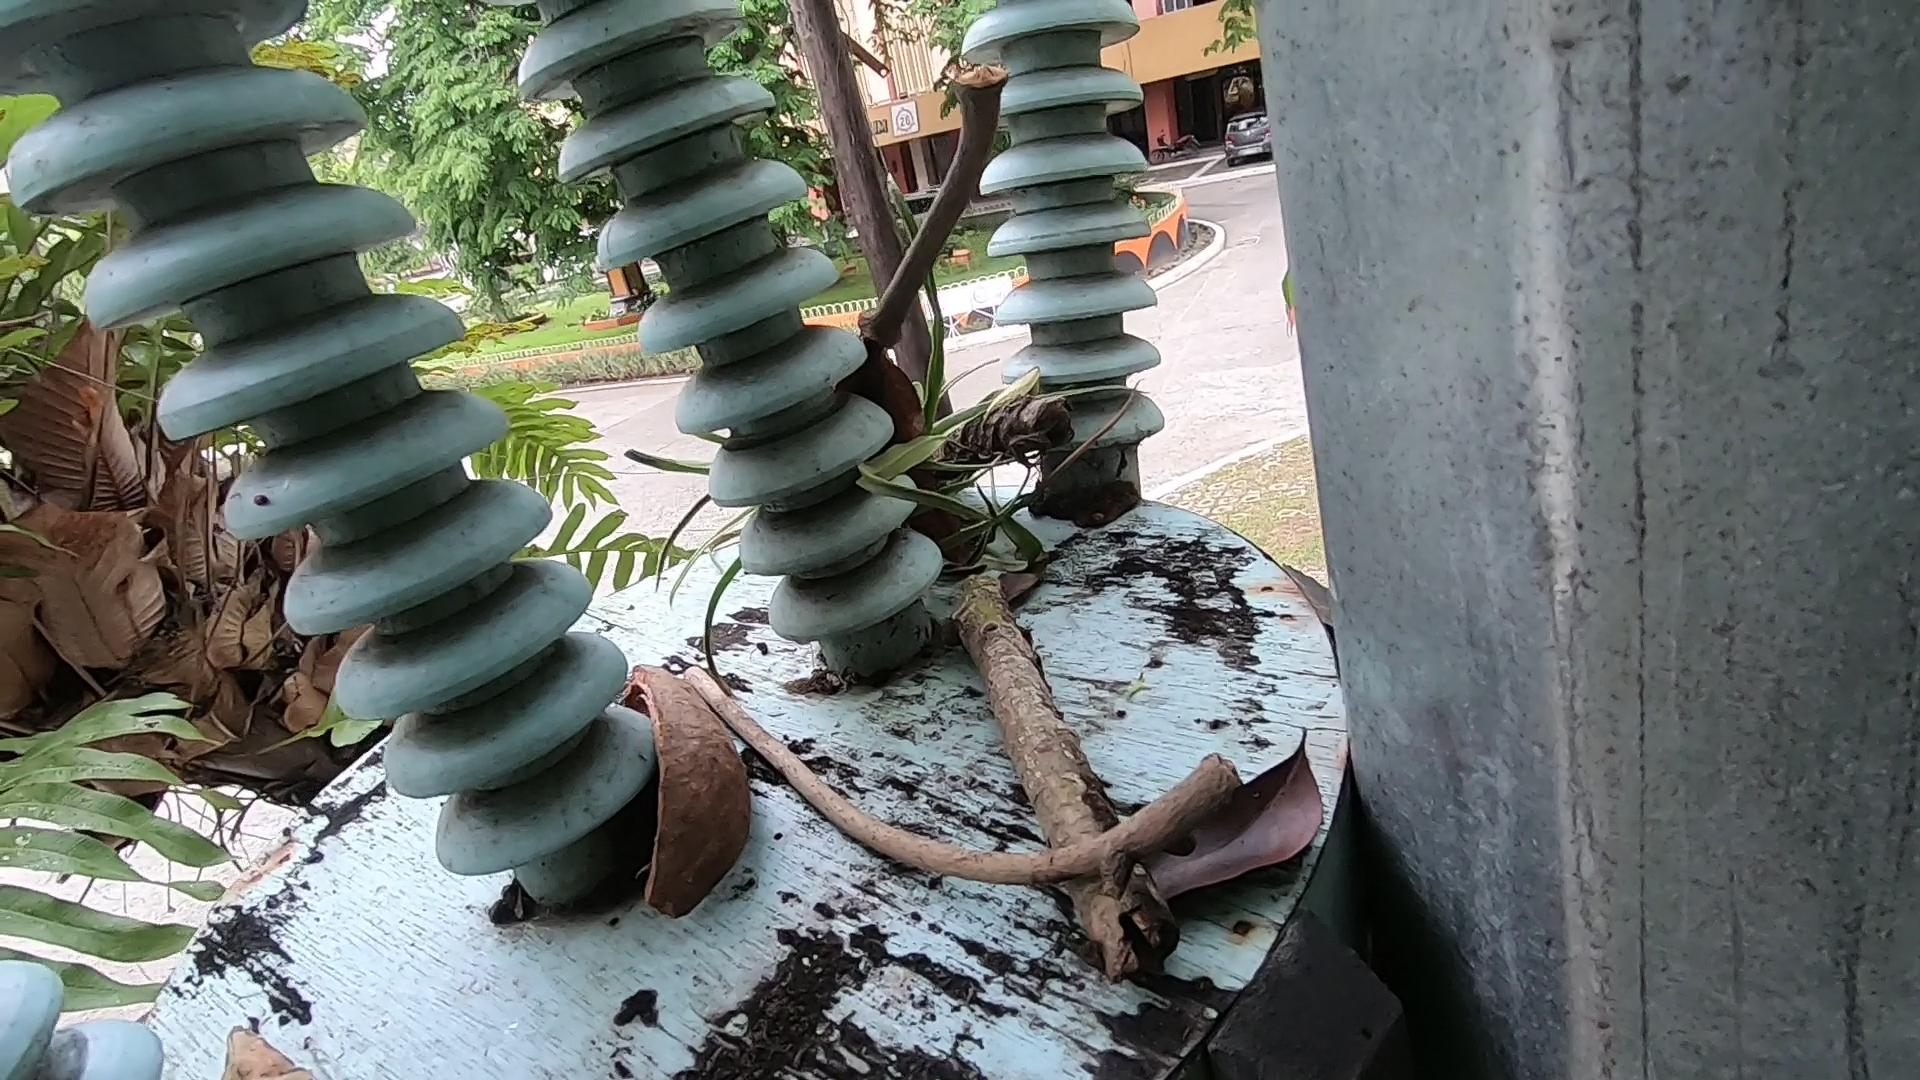branch with leaves: (897, 378, 1245, 990)
leaf: (1139, 667, 1410, 1001), (174, 994, 342, 1080)
mahogany fruit: (628, 653, 728, 990), (847, 332, 928, 585)
tree branch: (673, 651, 1294, 858), (812, 1, 1063, 392)
